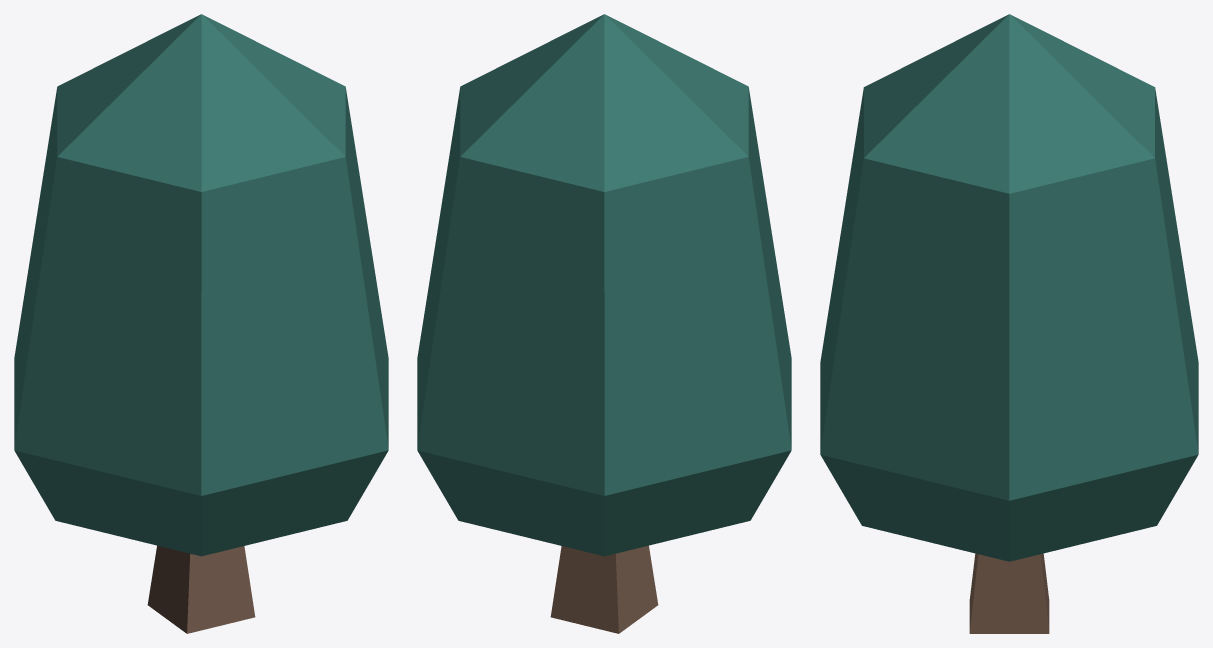
File: tree 2.glb
The picture shows the model from 3 angles, left to right: view 1: azimuth 30°, elevation 25°; view 2: azimuth 150°, elevation 25°; view 3: azimuth 270°, elevation 25°; orthographic projection.
Parts seen in each view (by area): view 1: tree_fat; view 2: tree_fat; view 3: tree_fat.
Boxes of the visible parts, x1=… form: tree_fat: x1=14, y1=14, x2=388, y2=633; tree_fat: x1=417, y1=14, x2=791, y2=633; tree_fat: x1=820, y1=14, x2=1198, y2=633.
Size of the model in its own units: 0.755 by 1.15 by 0.6538.
